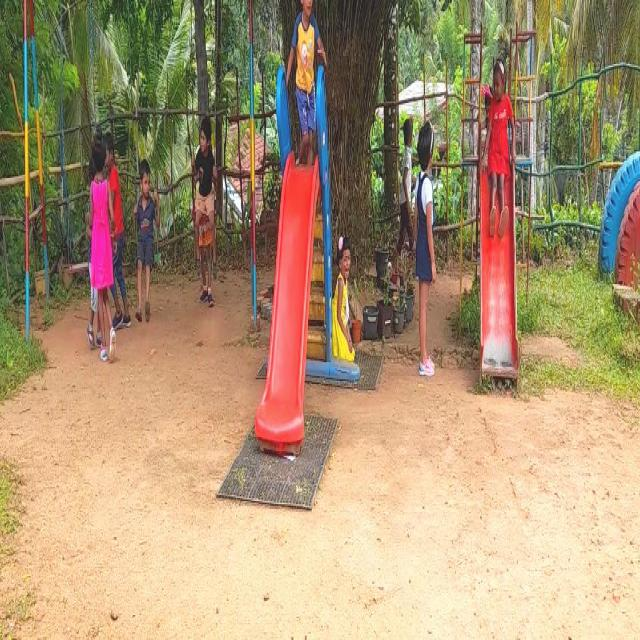child: (410, 115, 445, 382), (130, 152, 158, 324), (486, 50, 510, 236), (90, 134, 108, 364), (292, 0, 319, 148), (194, 102, 214, 299)
